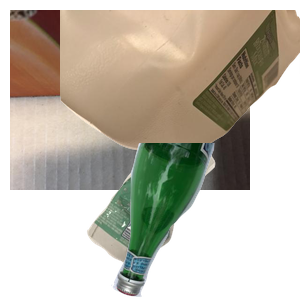cardboard: (10, 10, 250, 190)
glass: (109, 143, 300, 300)
plastic: (60, 10, 300, 160)
trash: (84, 133, 292, 300)
